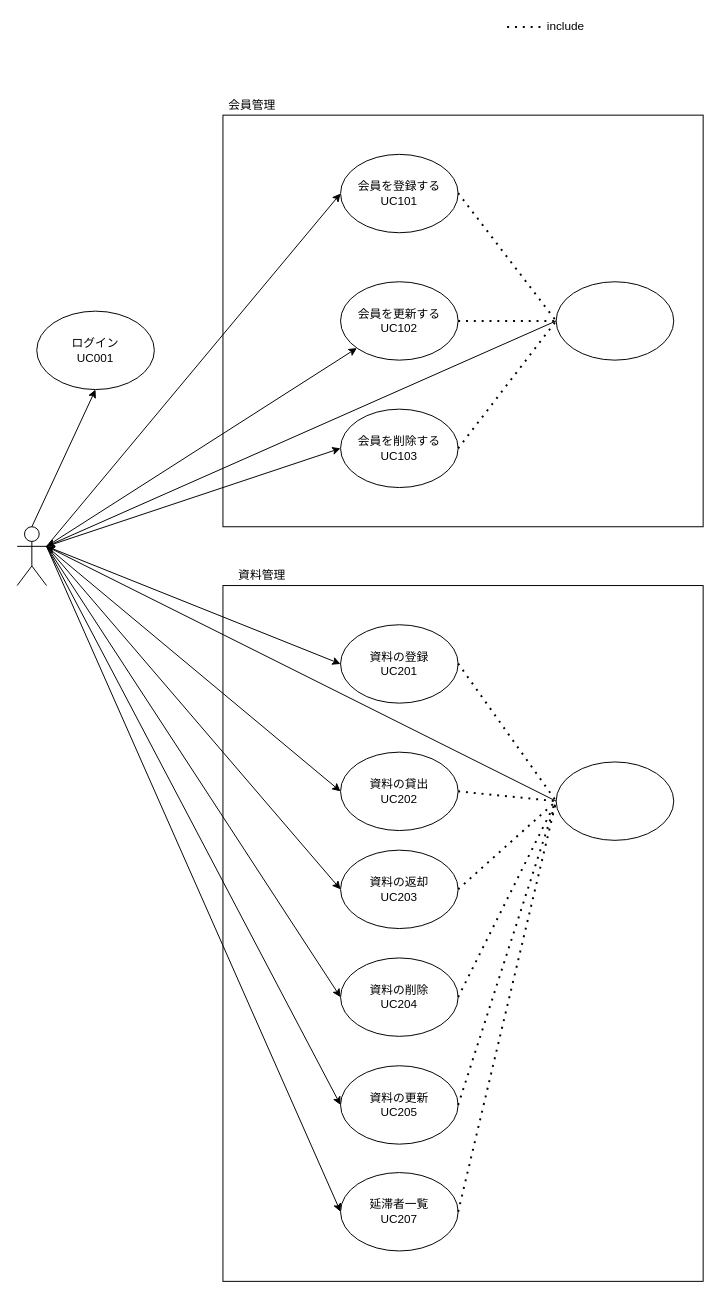
Image size: 720x1299. Some labels were removed from this diagram. Here are the shapes that lost their labels. From the top down, the centre of each, then its label:
At pixel 614 320: "会員を検索する UC104".
At pixel 31 556: "職員".
At pixel 614 800: "資料の検索 UC206".
